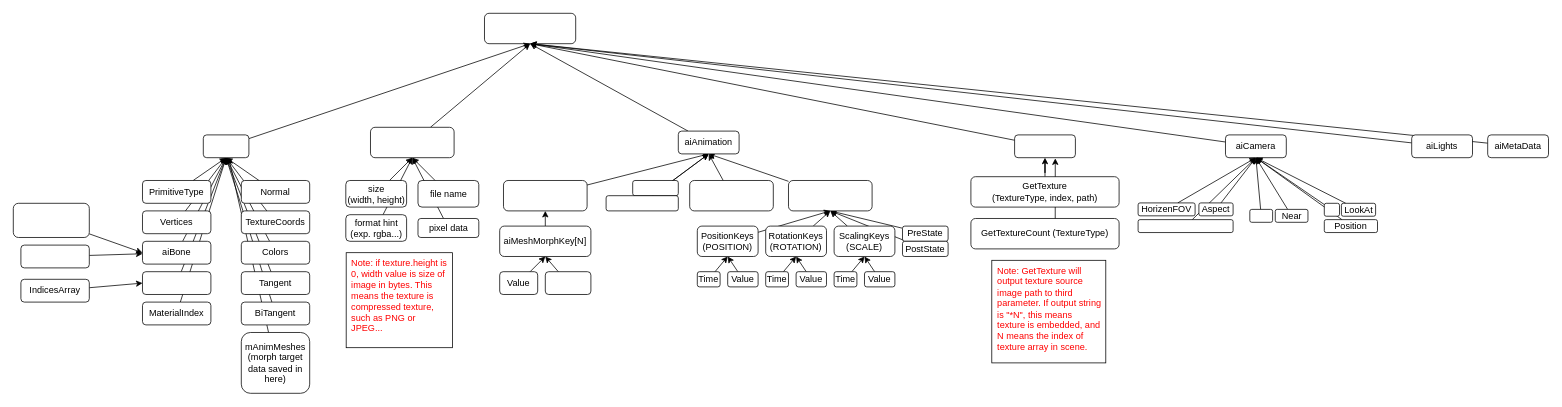
This 1562x407 diagram has some shape labels left out. Each missing label, with the centre of its shape:
"aiFaces" goes at (176,282).
"aiMaterial" goes at (1044,146).
"aiMesh" goes at (226,146).
"aiMeshAnim (not used in glTF)" goes at (731,195).
"aiMeshMorphAnim (morph target)" goes at (545,195).
"aiNodeAnim (bone animation)" goes at (830,195).
"aiScene" goes at (530,28).
"aiTexture (embedded only)" goes at (412,142).
"Duration" goes at (655,188).
"Far" goes at (1261,215).
"OffsetMatrix" goes at (54,256).
"OrthographicWidth" goes at (1185,226).
"TicksPerSecond" goes at (641,203).
"Up" goes at (1332,209).
"Weight" goes at (568,282).
"Weights (ignore 0 weight)" goes at (51,220).
